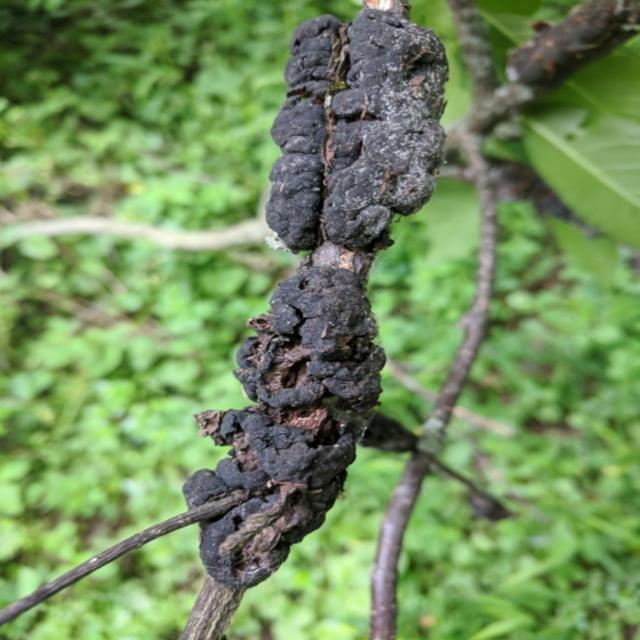Black_knot: (180, 3, 450, 592), (264, 5, 451, 254)
